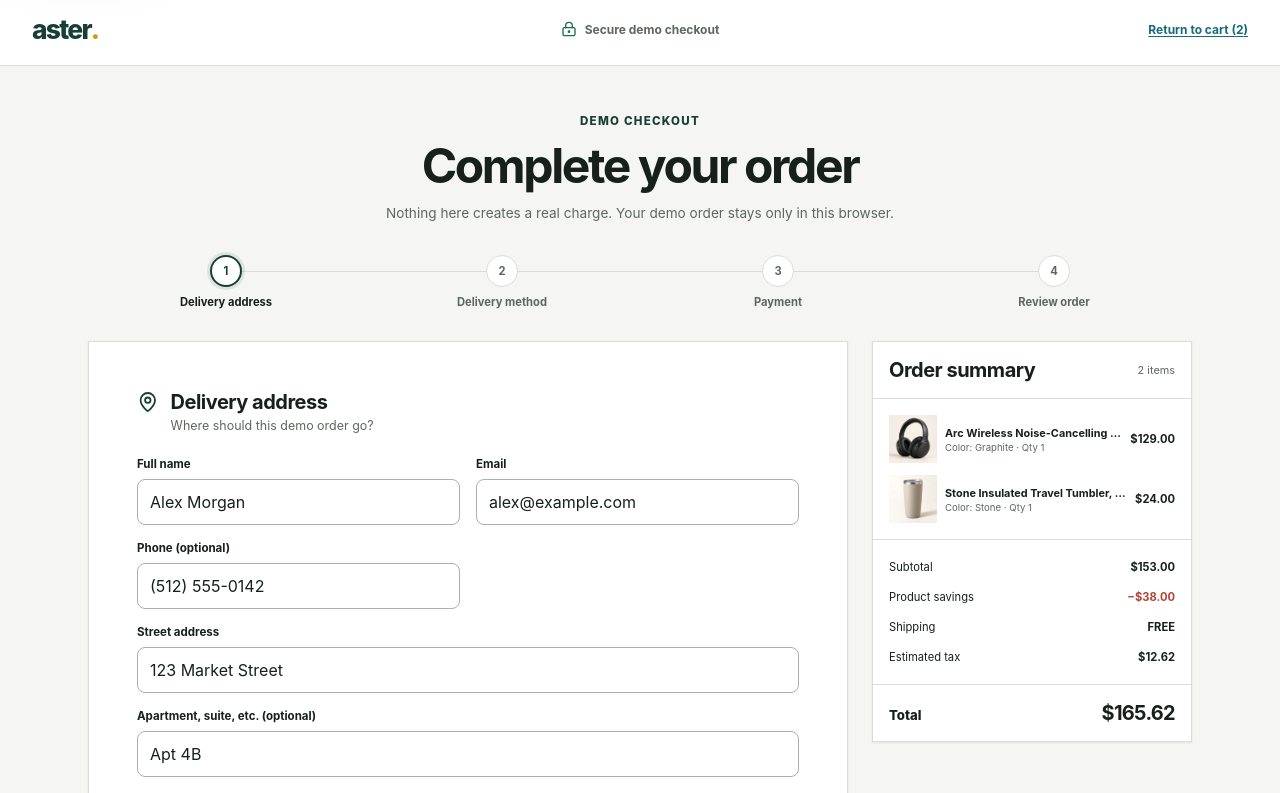
Test: CheckoutPage › validates delivery and demo payment fields
Step 1. Replace the text in the field labelled "Email" with "not-an-email" → (638, 502), box [476,479,799,525]
(page scrolled)
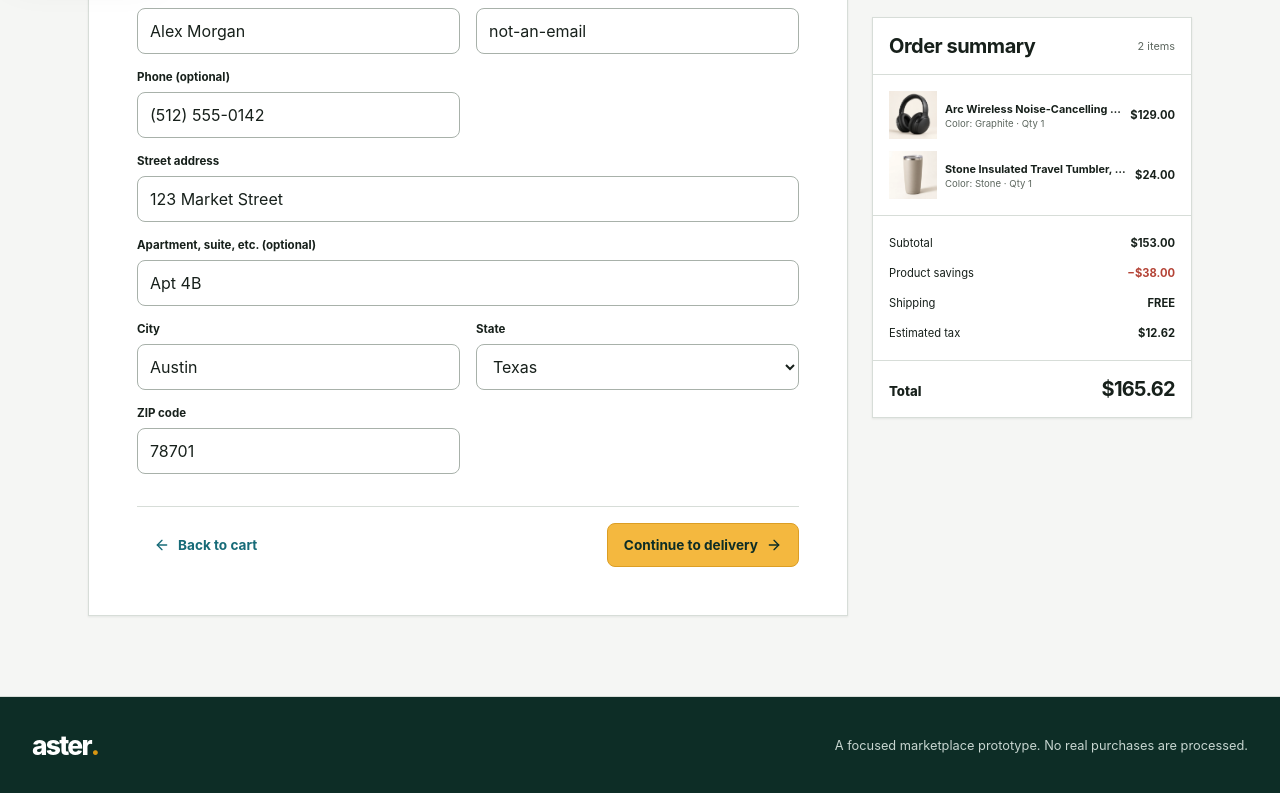
Step 2. Click the button "Continue to delivery" → (703, 545), box [607,523,799,567]
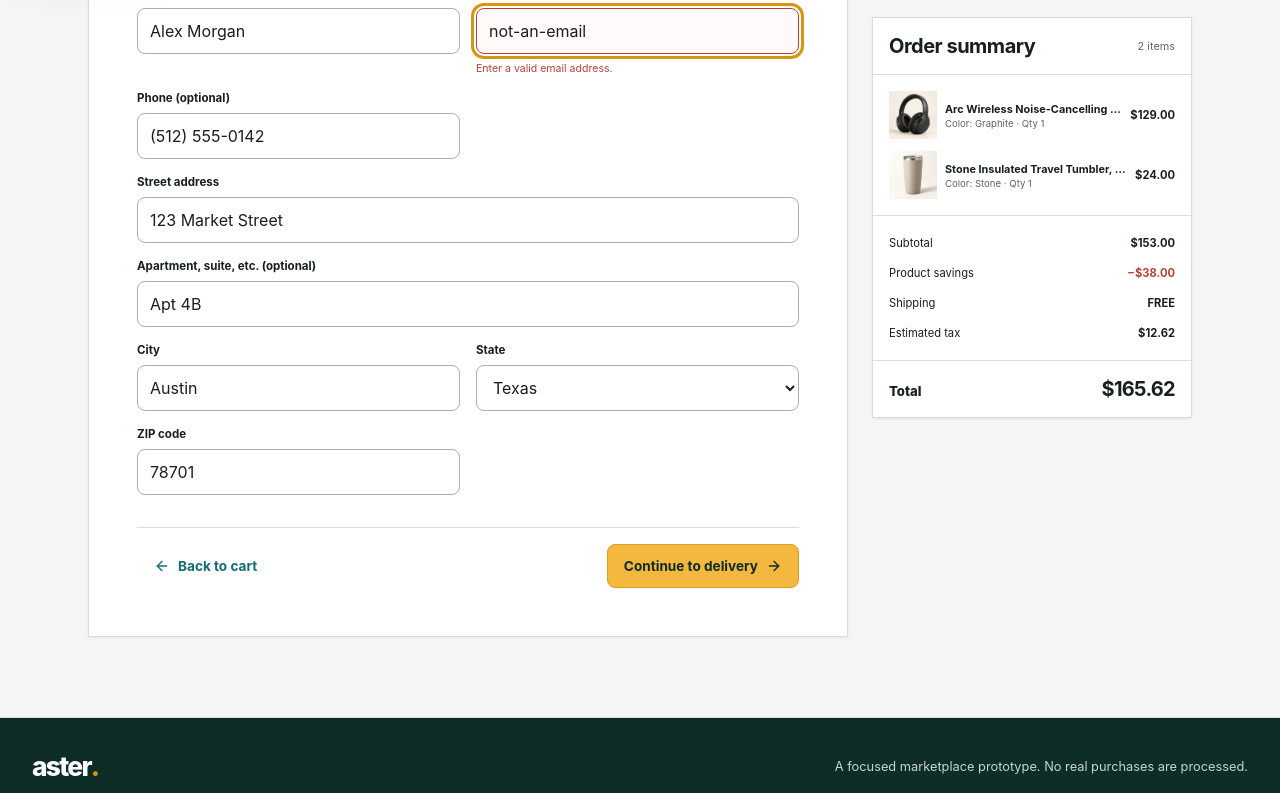
Now the text "Enter a valid email address." is shown, box [476,62,613,75]
Step 3. Replace the text in the field labelled "Email" with "alex@example.com" → (638, 31), box [476,8,799,54]
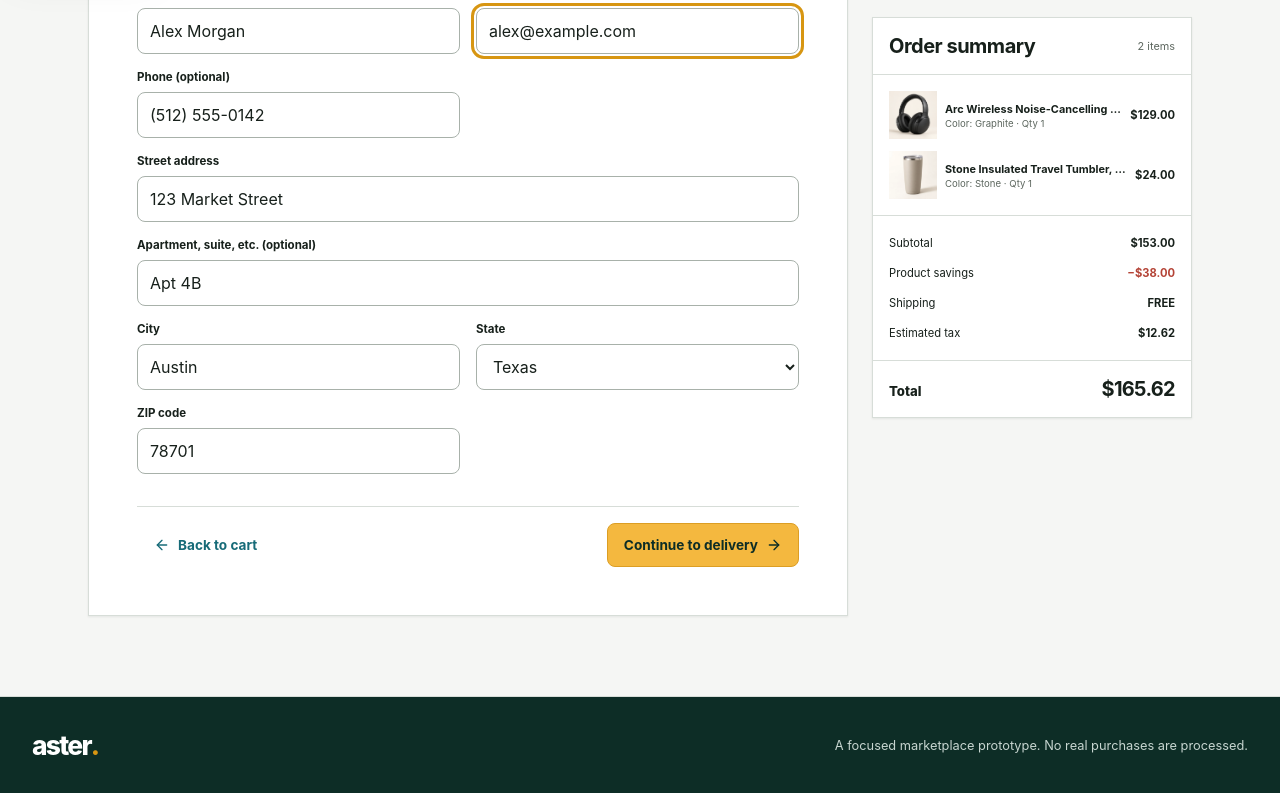
Step 4. Click the button "Continue to delivery" → (703, 545), box [607,523,799,567]
(page scrolled)
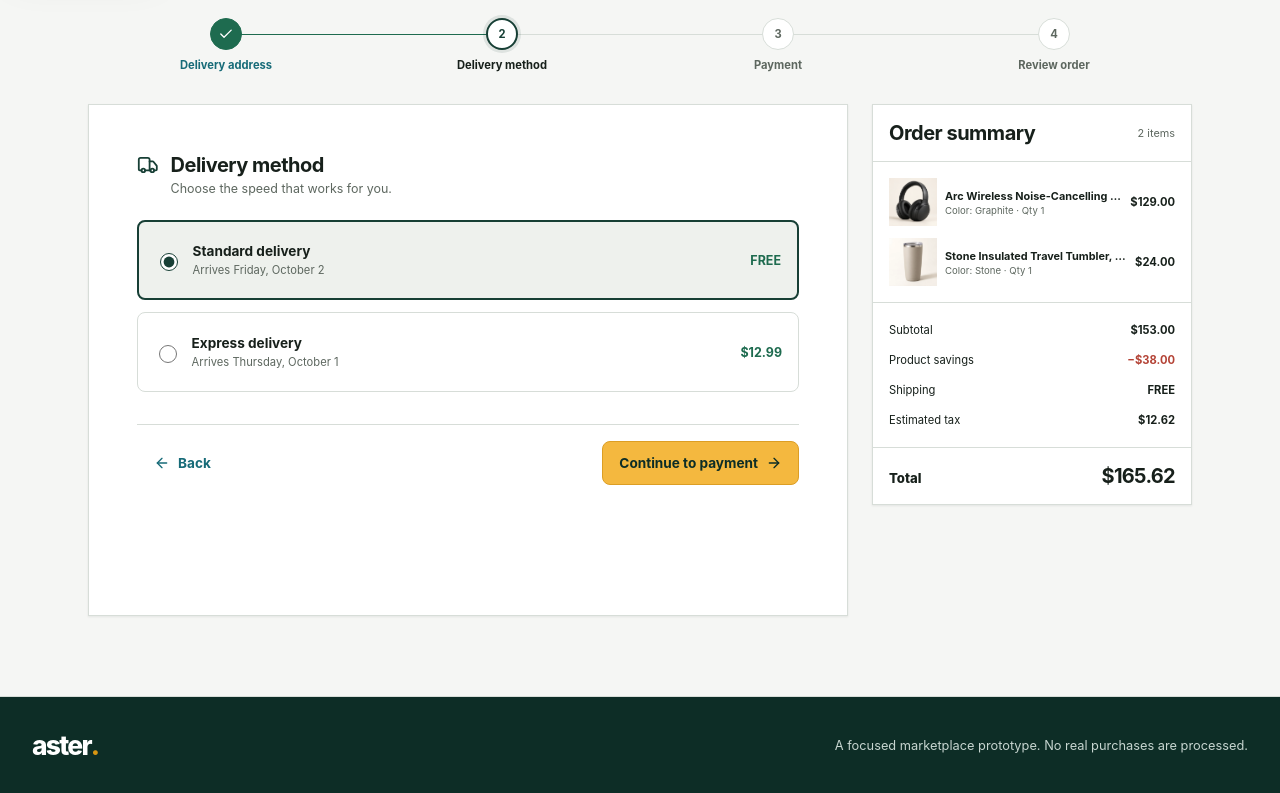
Step 5. Click the button "Continue to payment" → (701, 463), box [602,441,799,485]
(page scrolled)
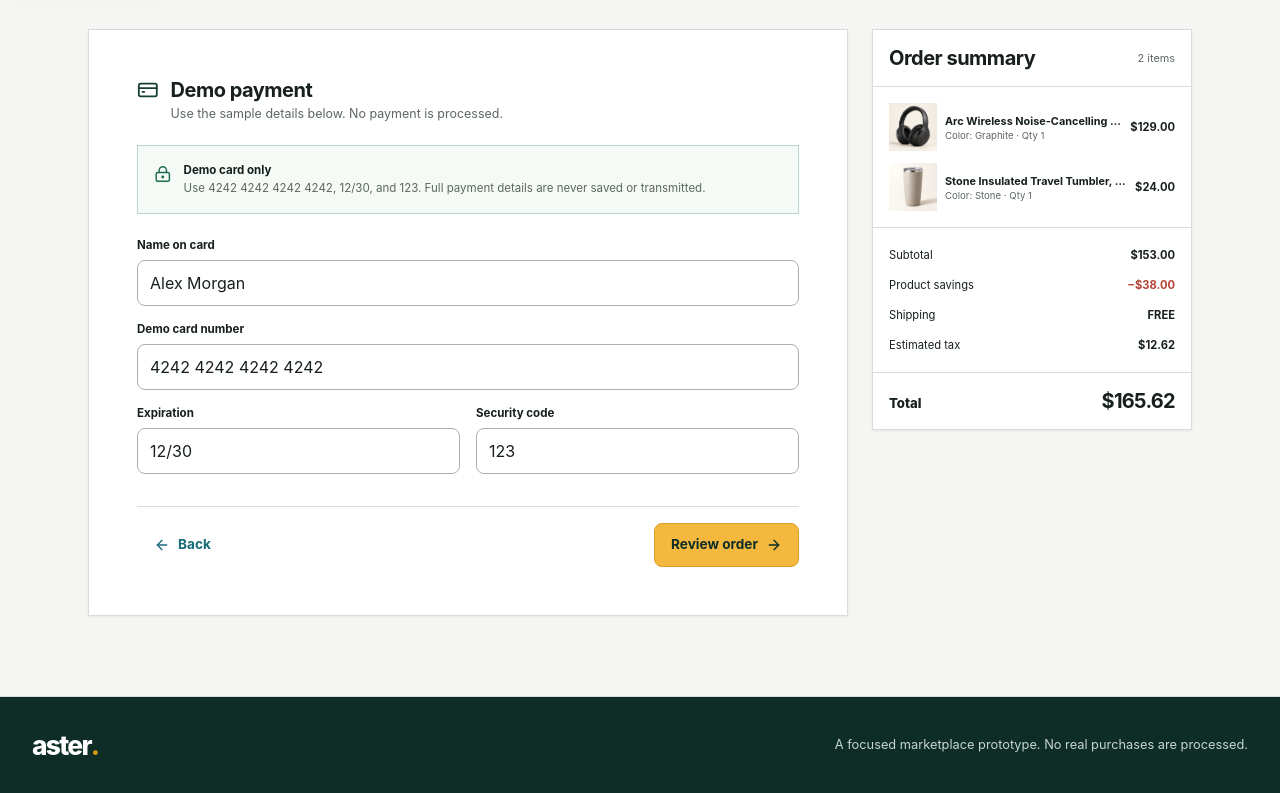
Step 6. Replace the text in the field labelled "Demo card number" with "1111" → (468, 367), box [137,344,799,390]
Step 7. Click the button "Review order" → (727, 545), box [654,523,799,567]
(page scrolled)
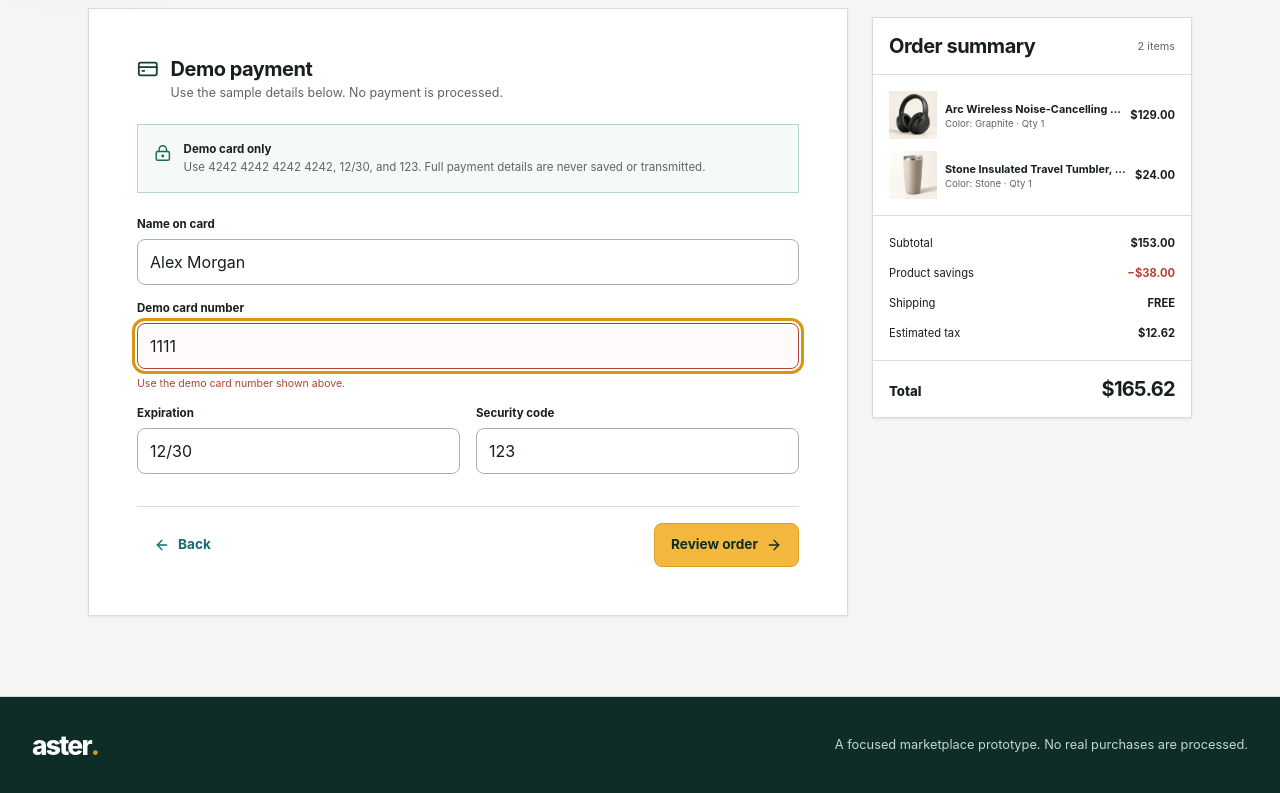
Now the heading "Demo payment" is shown, box [171,57,312,81]
Now the text "Use the demo card number shown above." is shown, box [137,377,345,390]
